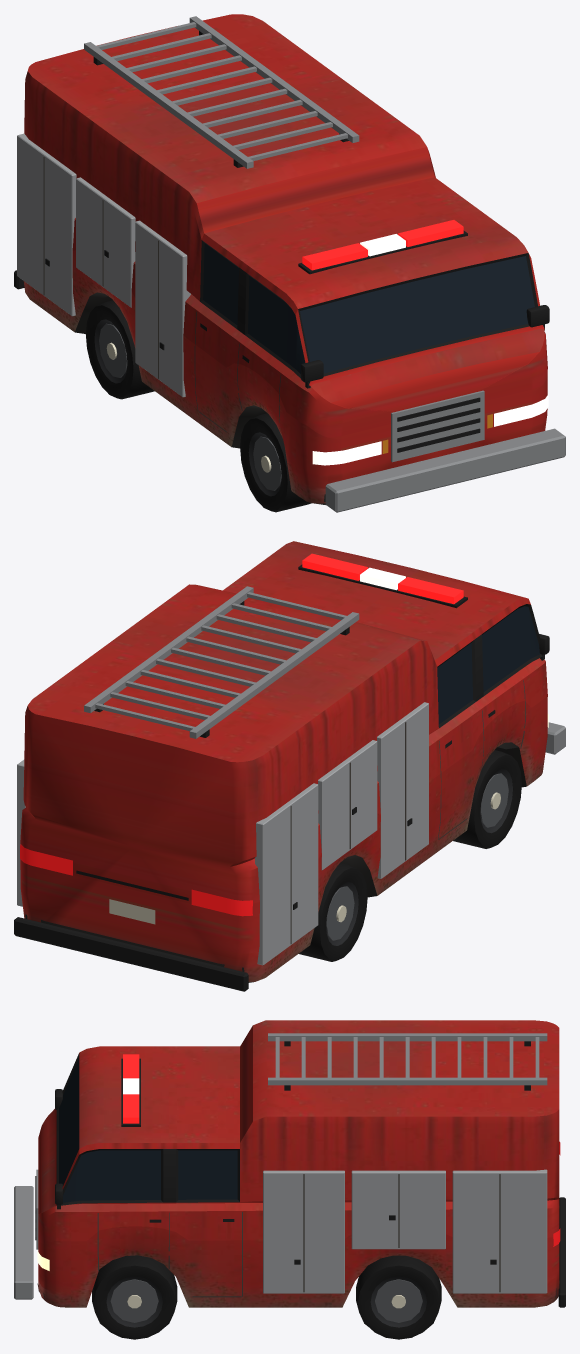
File: firetruck.glb
3 views of the same model, one above another, from view 1: azimuth 30°, elevation 25°; view 2: azimuth 150°, elevation 25°; view 3: azimuth 270°, elevation 25° (orthographic). The views are drawn at different scales.
Parts seen in each view (by area): view 1: body, grill, wheel-back-right, wheel-front-right, wheel-front-right.1, wheel-back-right.1; view 2: body, wheel-back-right, wheel-front-right, wheel-back-right.1, wheel-front-right.1; view 3: body, wheel-back-left, wheel-front-left, grill, wheel-front-left.1, wheel-back-left.1.
Part boxes in pixels (x1=…): body: x1=14, y1=14, x2=549, y2=504; grill: x1=325, y1=390, x2=565, y2=512; wheel-back-right: x1=85, y1=300, x2=154, y2=399; wheel-front-right: x1=240, y1=413, x2=311, y2=512; wheel-front-right.1: x1=249, y1=432, x2=281, y2=496; wheel-back-right.1: x1=94, y1=319, x2=127, y2=383; body: x1=14, y1=541, x2=549, y2=991; wheel-back-right: x1=299, y1=863, x2=367, y2=961; wheel-front-right: x1=453, y1=750, x2=521, y2=848; wheel-back-right.1: x1=326, y1=882, x2=358, y2=945; wheel-front-right.1: x1=480, y1=769, x2=512, y2=833; body: x1=37, y1=1020, x2=565, y2=1307; wheel-back-left: x1=356, y1=1255, x2=441, y2=1339; wheel-front-left: x1=92, y1=1255, x2=177, y2=1339; grill: x1=14, y1=1169, x2=38, y2=1299; wheel-front-left.1: x1=106, y1=1276, x2=162, y2=1327; wheel-back-left.1: x1=370, y1=1276, x2=426, y2=1327.
Bounding box in the file's own units: 1.51 × 1.59 × 3.38.
Materials: 16 (1 with a texture image).
